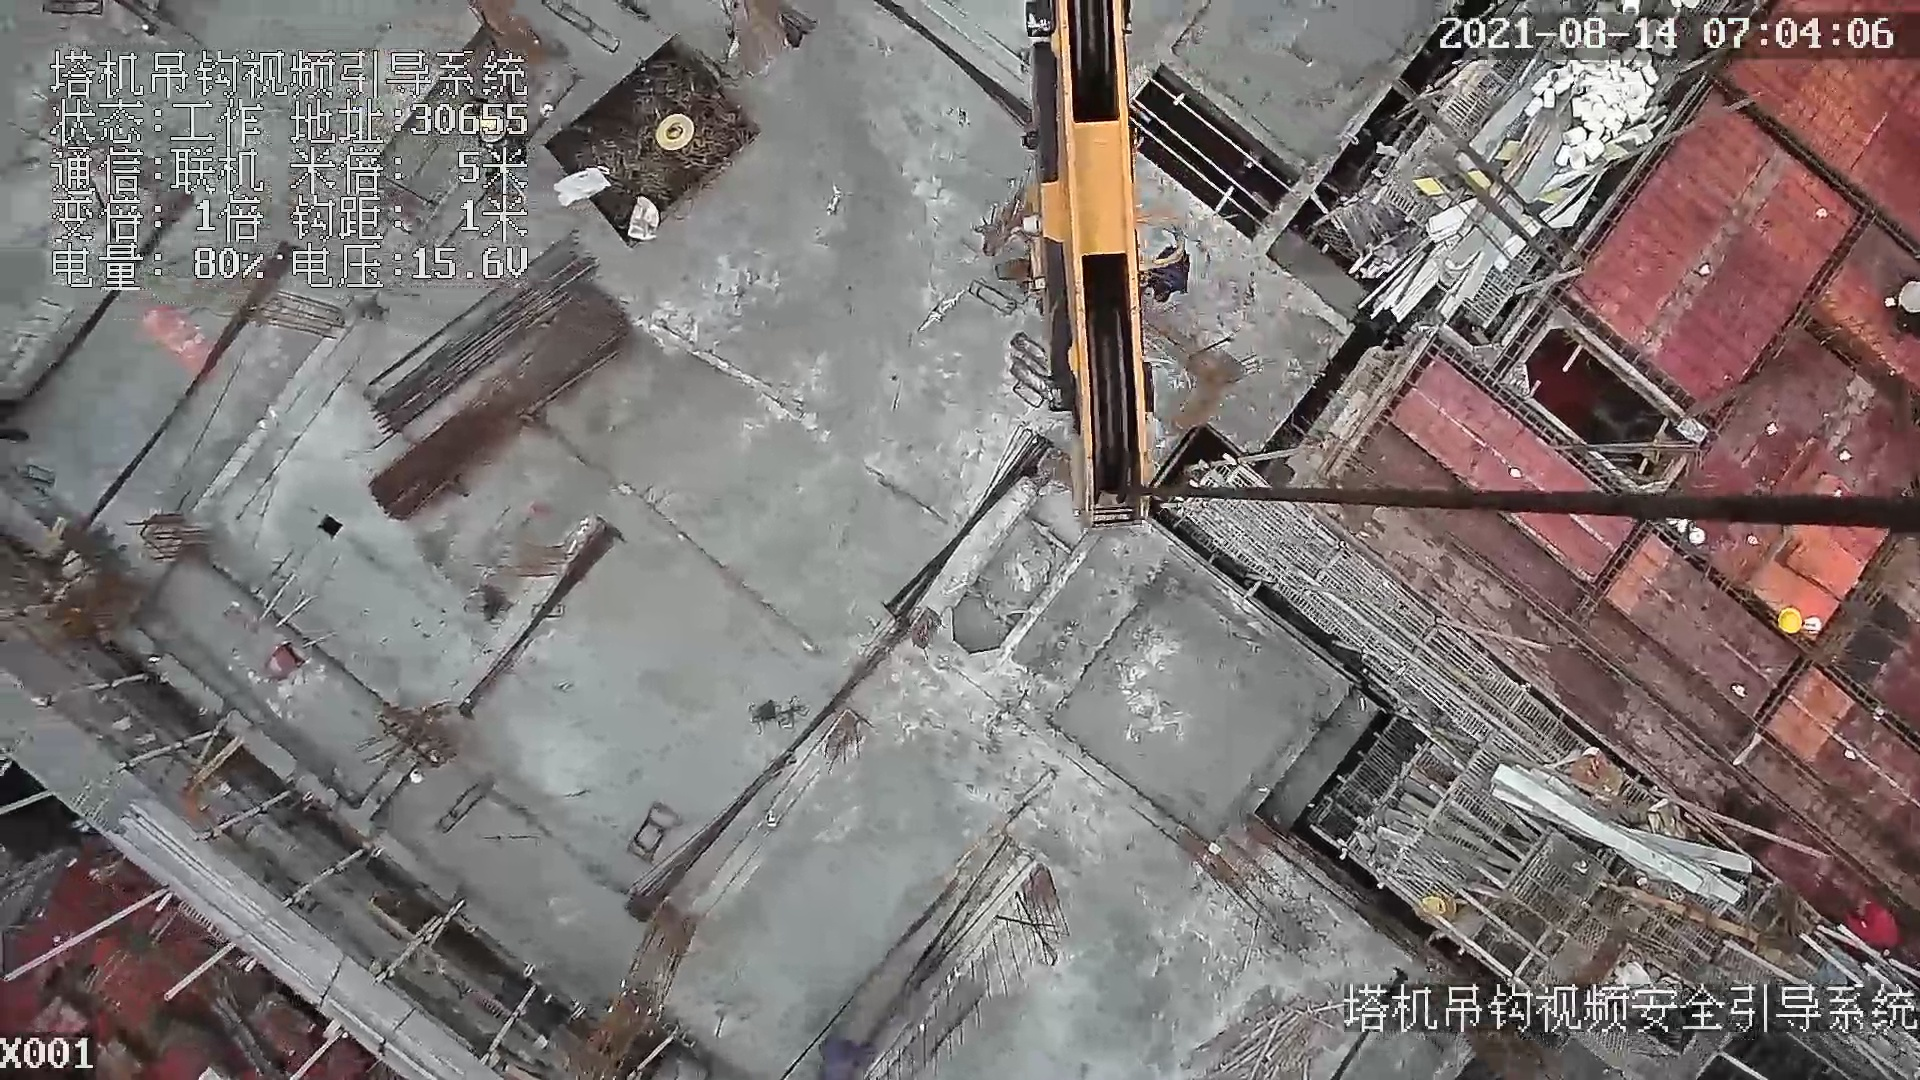helmet: (1772, 607, 1807, 640)
hook: (986, 1, 1154, 535)
